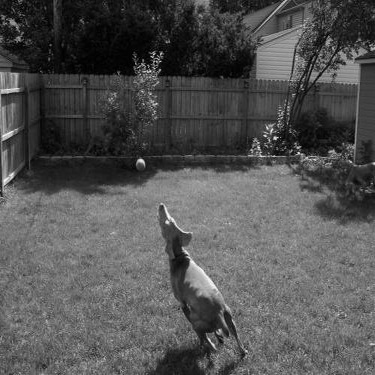dog: (143, 200, 247, 360)
